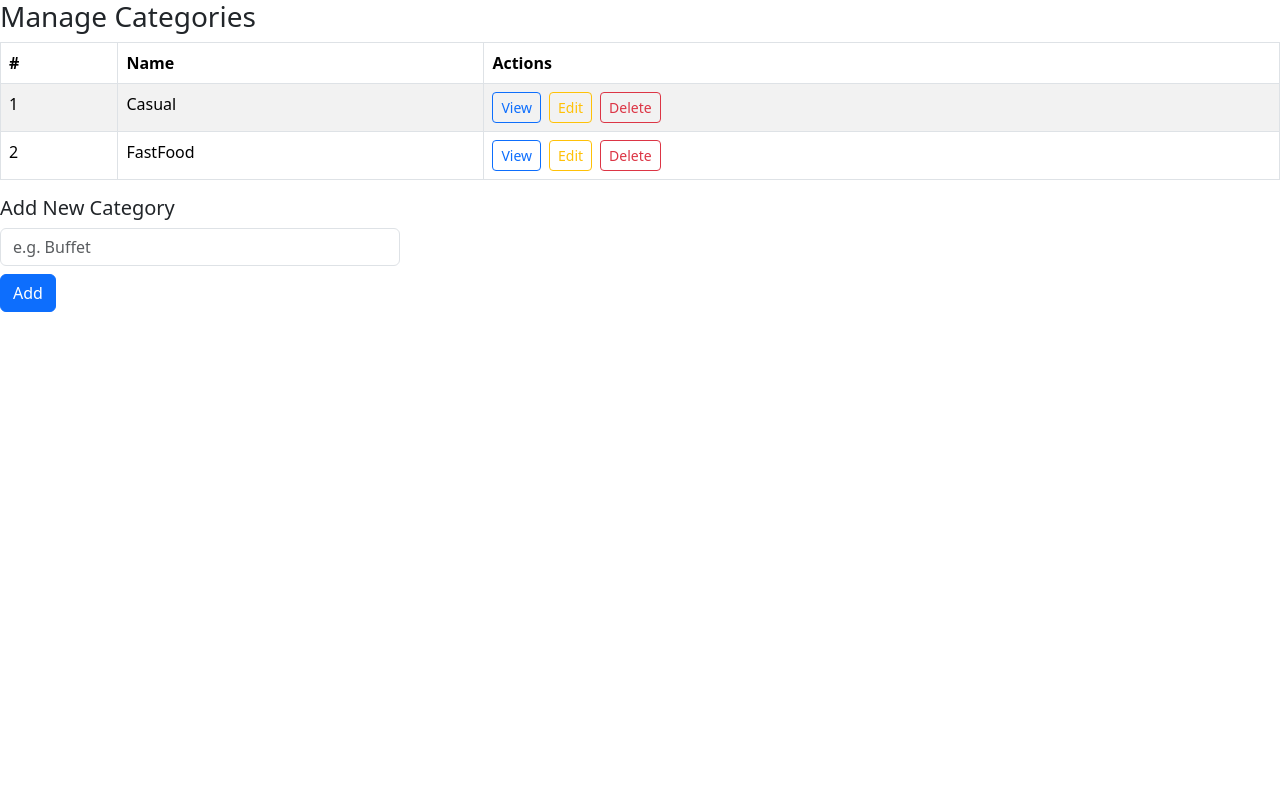
Scenario: TODO-10B: nhấn Delete hiển thị ModalConfirm
The image size is (1280, 800).
Click the button "Delete" in the row of "Casual" at (630, 107), box [600,92,661,123]
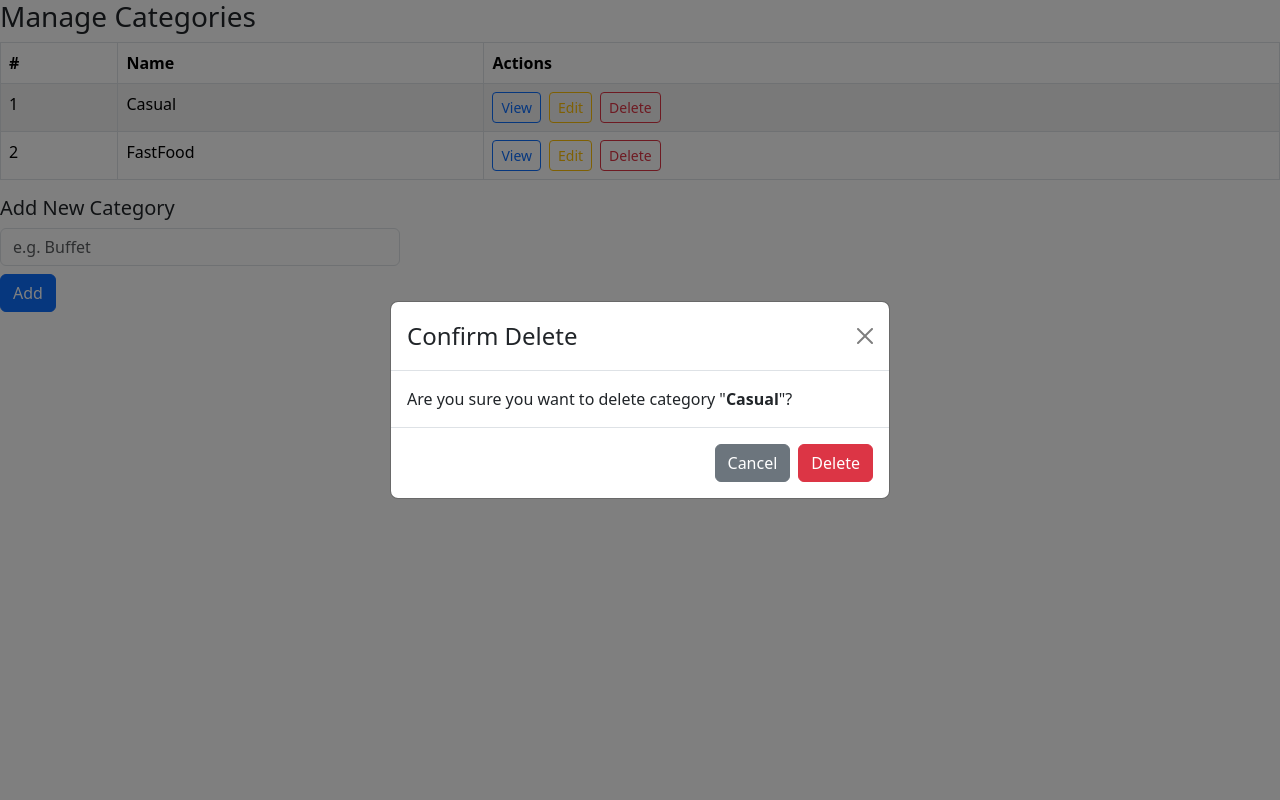
Now the text "Casual" is shown, box [726,388,779,410]
